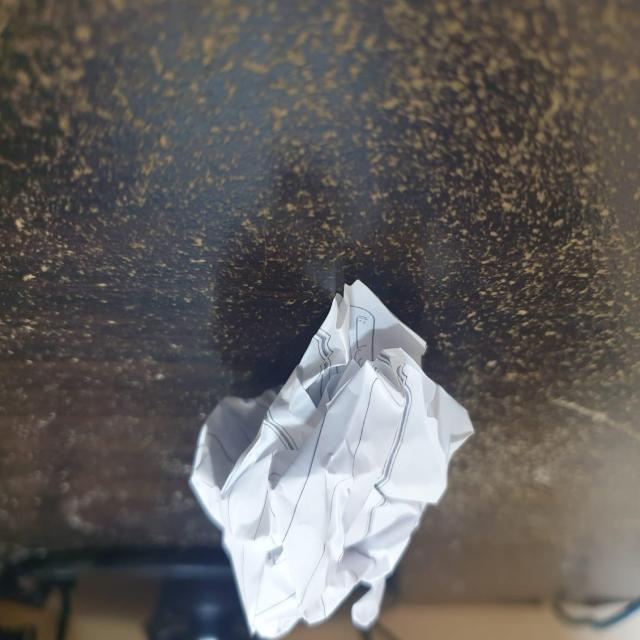kertas: (189, 294, 479, 640)
